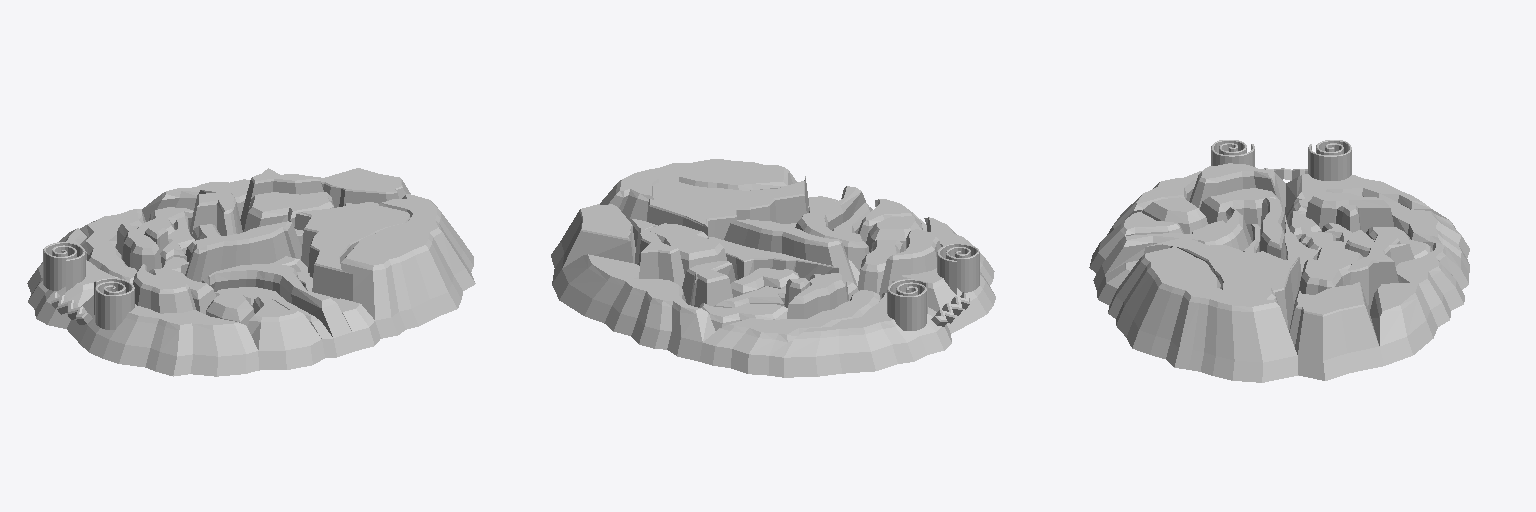
The model's file is brain.obj.
3 views of the same model, side by side, from view 1: azimuth 30°, elevation 25°; view 2: azimuth 150°, elevation 25°; view 3: azimuth 270°, elevation 25° (orthographic).
Visible parts, largest first — view 1: brain; view 2: brain; view 3: brain.
Part boxes in pixels (left/top/right/bottom): brain: left=27, top=168, right=475, bottom=376; brain: left=551, top=159, right=995, bottom=377; brain: left=1089, top=140, right=1469, bottom=382.
Bounding box in the file's own units: 2.22 × 0.3228 × 1.85.